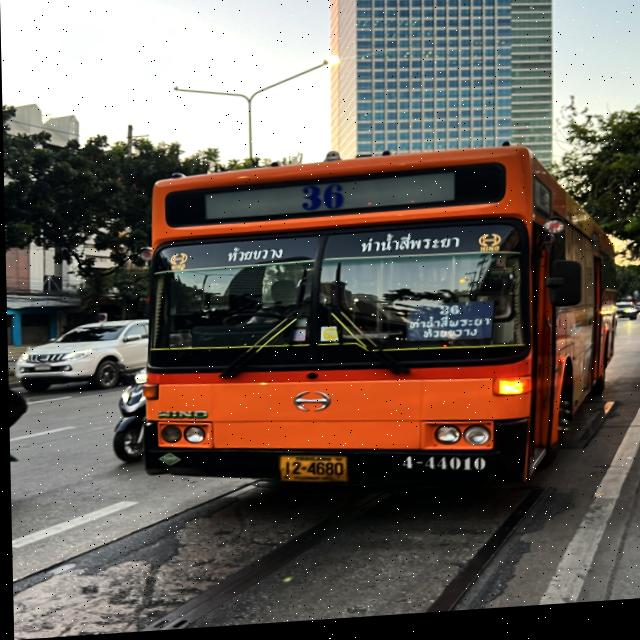BMTA-bus: (107, 148, 622, 511)
Bus-Line-Number: (289, 181, 352, 222)
Destination-Sign-Normal: (402, 301, 493, 352)
